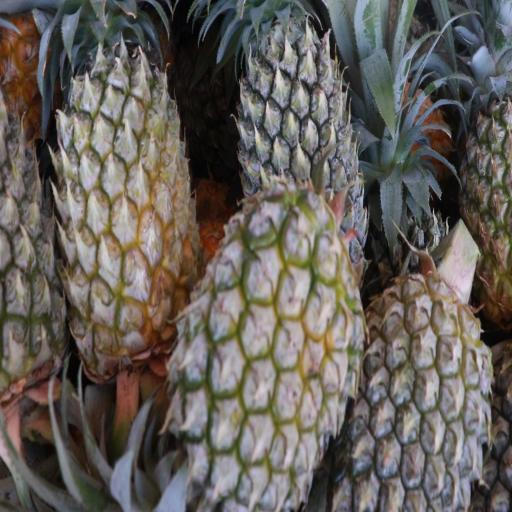------------------------------: (178, 191, 361, 512), (58, 0, 193, 367)
